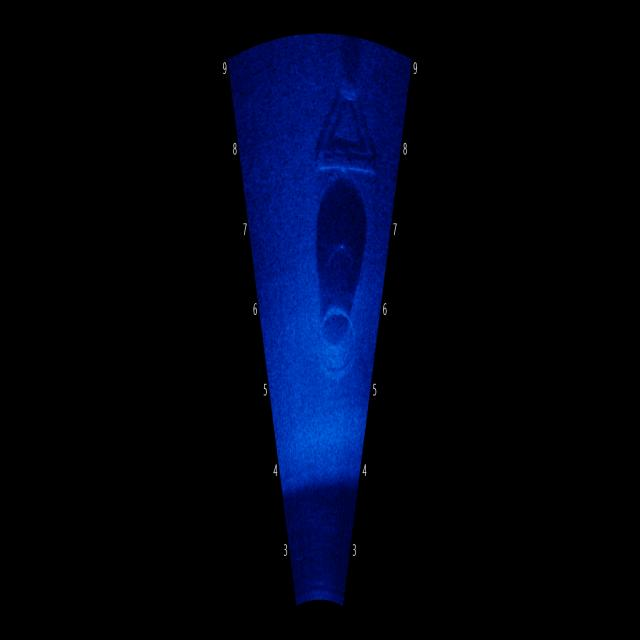circle: (306, 271, 362, 395)
triangle: (302, 48, 387, 186)
